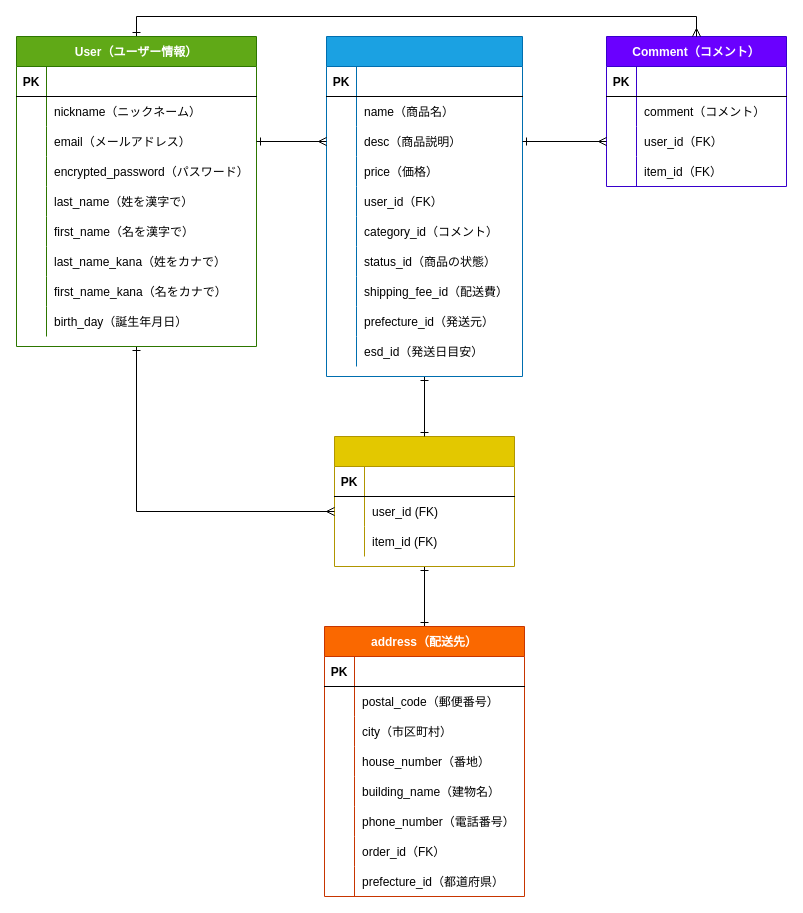
Image size: 803x913. Some labels were removed from this diagram. The box of each missing label's shape, as (x1, y1, x2, y2) in pixels:
Item（商品情報）: (326, 36, 522, 376)
order（購入記録）: (334, 436, 514, 566)
